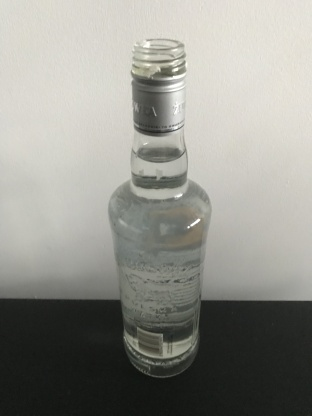nakretka: (128, 36, 188, 137)
